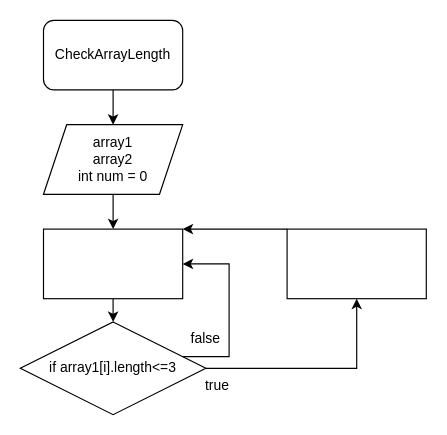
This 447x435 diagram has some shape labels left out. The box of each missing label's shape, as (x1, y1, x2, y2) in pixels:
array2[num]=array1[i] num++: (286, 228, 426, 299)
for (i=0; i<array1.length; i++): (42, 228, 183, 299)
